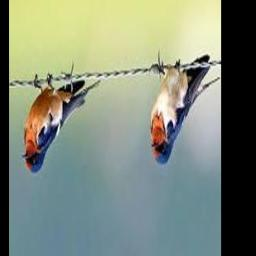Swallow: (20, 76, 100, 175), (149, 55, 220, 165)
